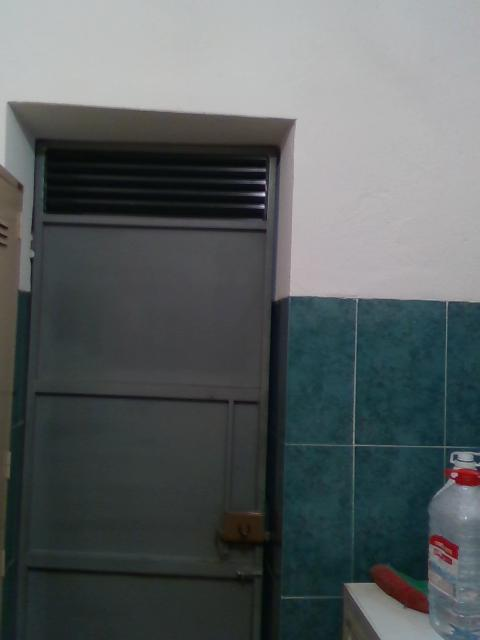door: (19, 139, 279, 640)
